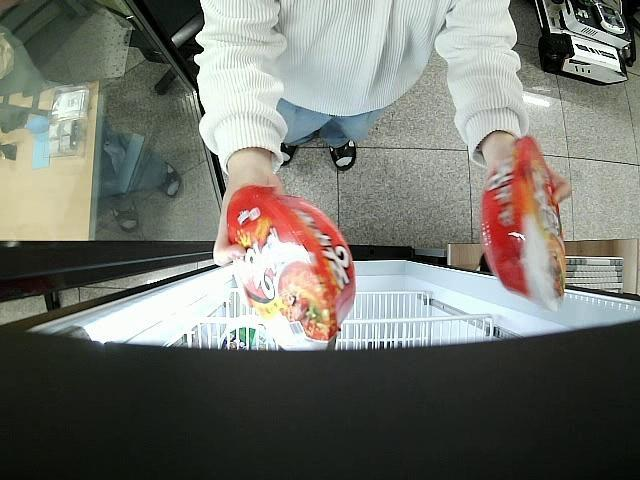10_wangTtukkeong: (225, 185, 356, 348), (480, 137, 569, 312)
